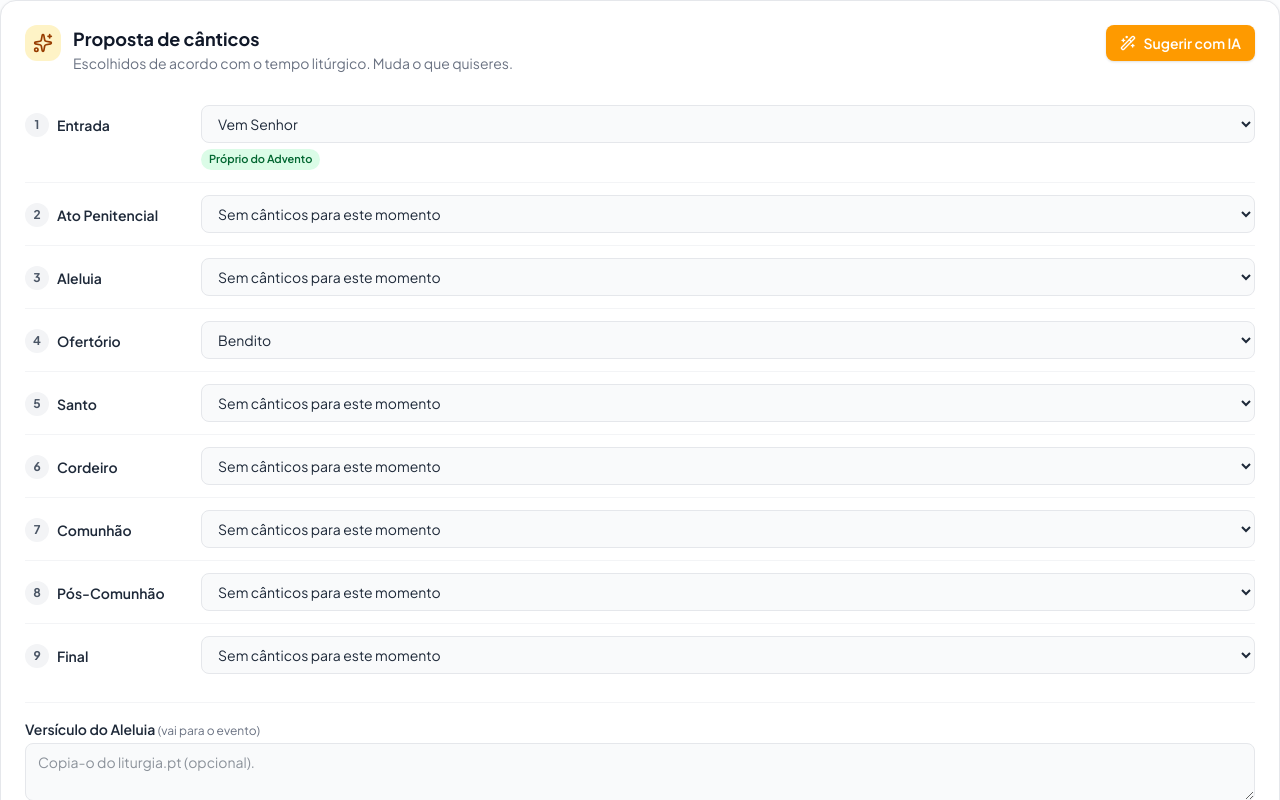
Test case: MassPlanner › mostra a proposta, permite trocar e cria o evento com os cânticos escolhidos
Check: the text "Próprio do Advento" is shown, box [201,149,320,170]
Select "Alegres Vamos" in the dropdown named "Cântico para Entrada" at (728, 124), box [201,105,1255,143]
(page scrolled)
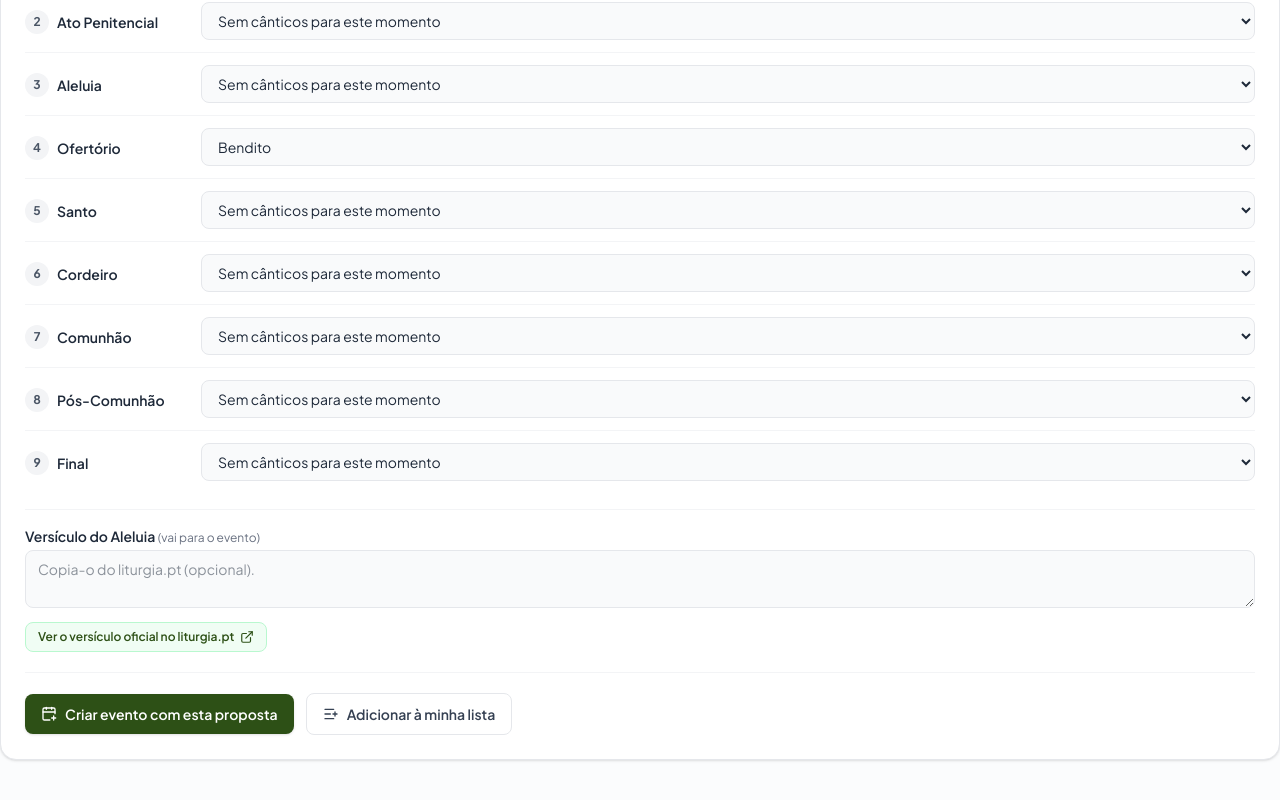
Click the button "Criar evento com esta proposta" at (159, 714), box [25,694,294,734]
(page scrolled)
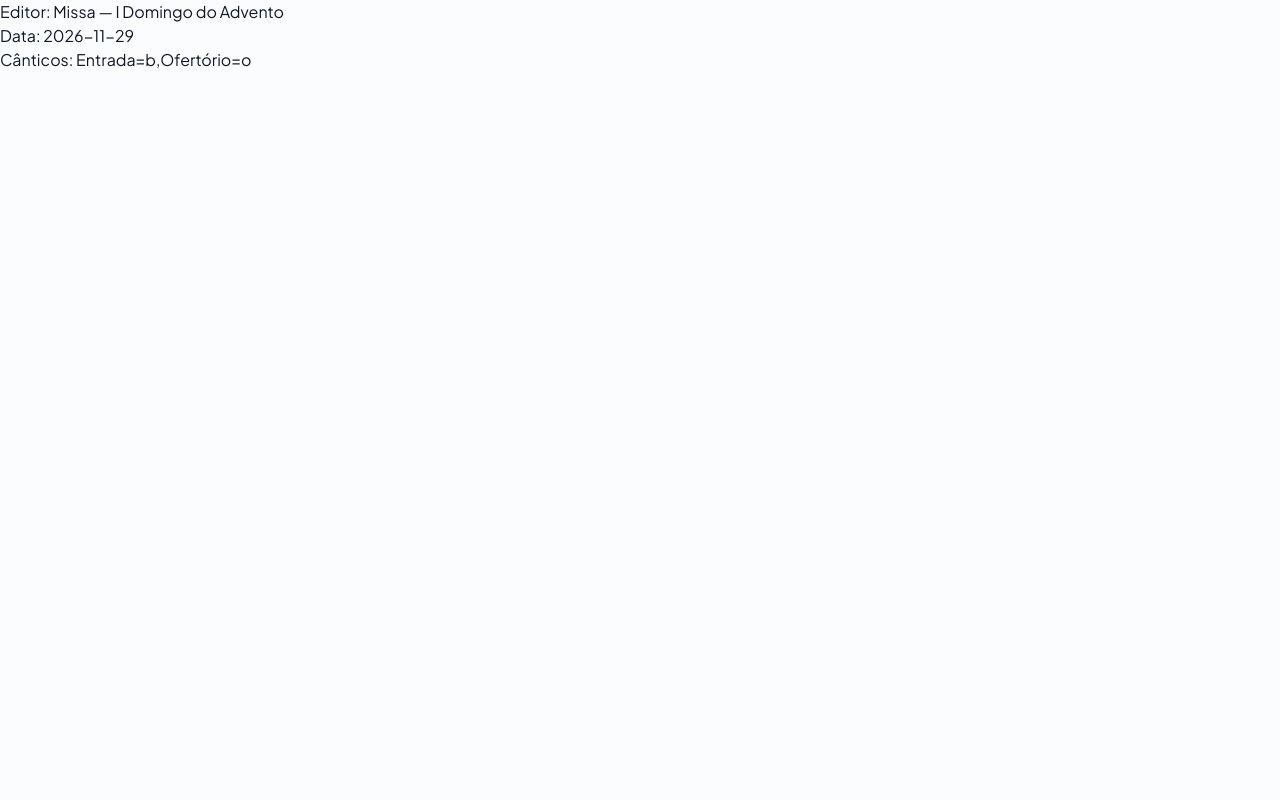
Check: the text "Editor: Missa — I Domingo do Advento" is shown, box [0,1,284,22]
Check: the text "Data: 2026-11-29" is shown, box [0,25,134,46]
Check: the text "Cânticos: Entrada=b,Ofertório=o" is shown, box [0,49,252,70]
